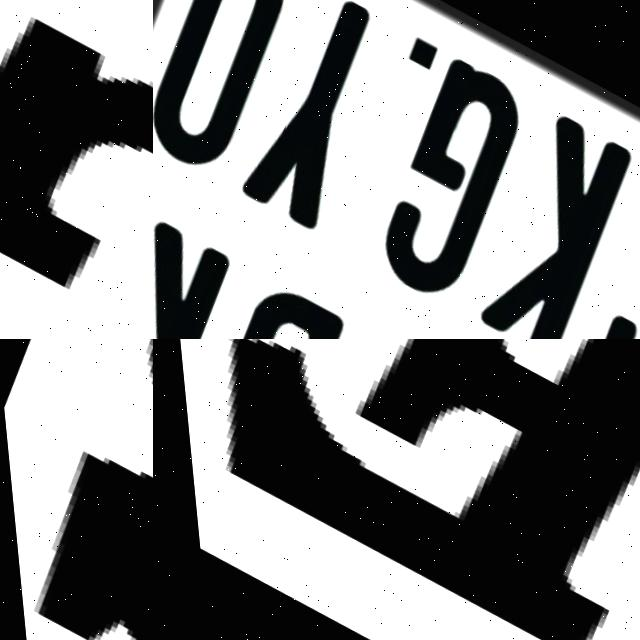0: (153, 0, 317, 189)
B: (154, 266, 357, 339)
C: (557, 149, 640, 339)
E: (218, 339, 640, 640)
G: (345, 32, 547, 310), (0, 0, 153, 339)
K: (452, 84, 640, 339), (153, 209, 242, 339)
S: (0, 339, 153, 640)
Y: (221, 0, 410, 235)
